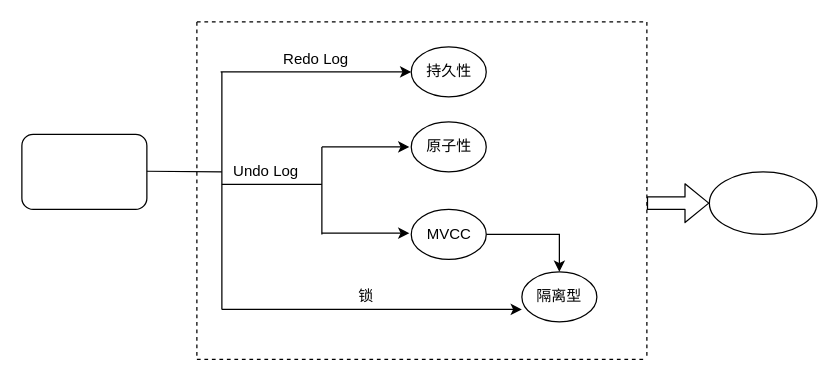
Image size: 839x383. Some labels were removed from this diagram. Here are the shapes that lost their labels. From the top down, the centre of each, then its label:
pixel 84 171: 事务实现
pixel 762 202: 一致性
